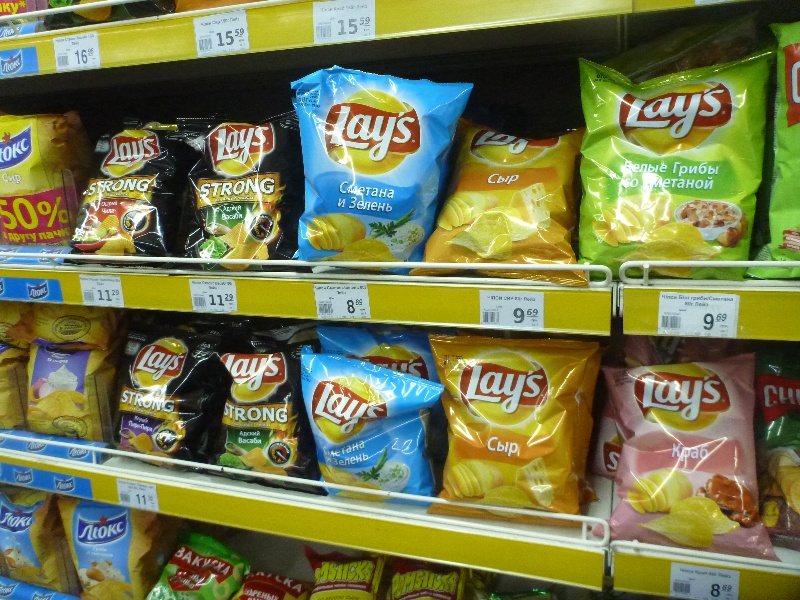chips: (570, 43, 781, 287), (269, 66, 486, 296), (578, 350, 790, 570), (406, 115, 614, 298), (430, 331, 610, 542), (298, 347, 462, 534), (53, 114, 210, 279), (173, 103, 312, 281), (101, 327, 230, 476)
